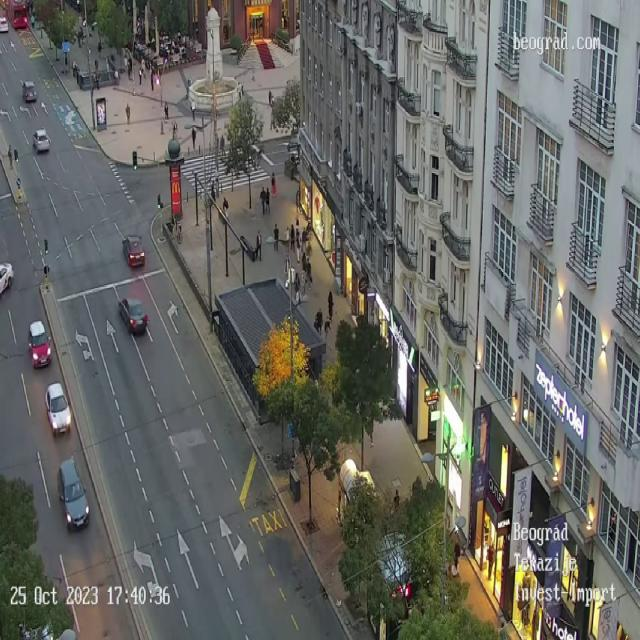bus: (5, 1, 28, 27)
car: (56, 455, 90, 532), (44, 382, 71, 436), (118, 297, 149, 335), (28, 320, 51, 369), (122, 235, 145, 267), (0, 262, 14, 295), (32, 128, 50, 152), (21, 80, 36, 103), (0, 16, 8, 32)
